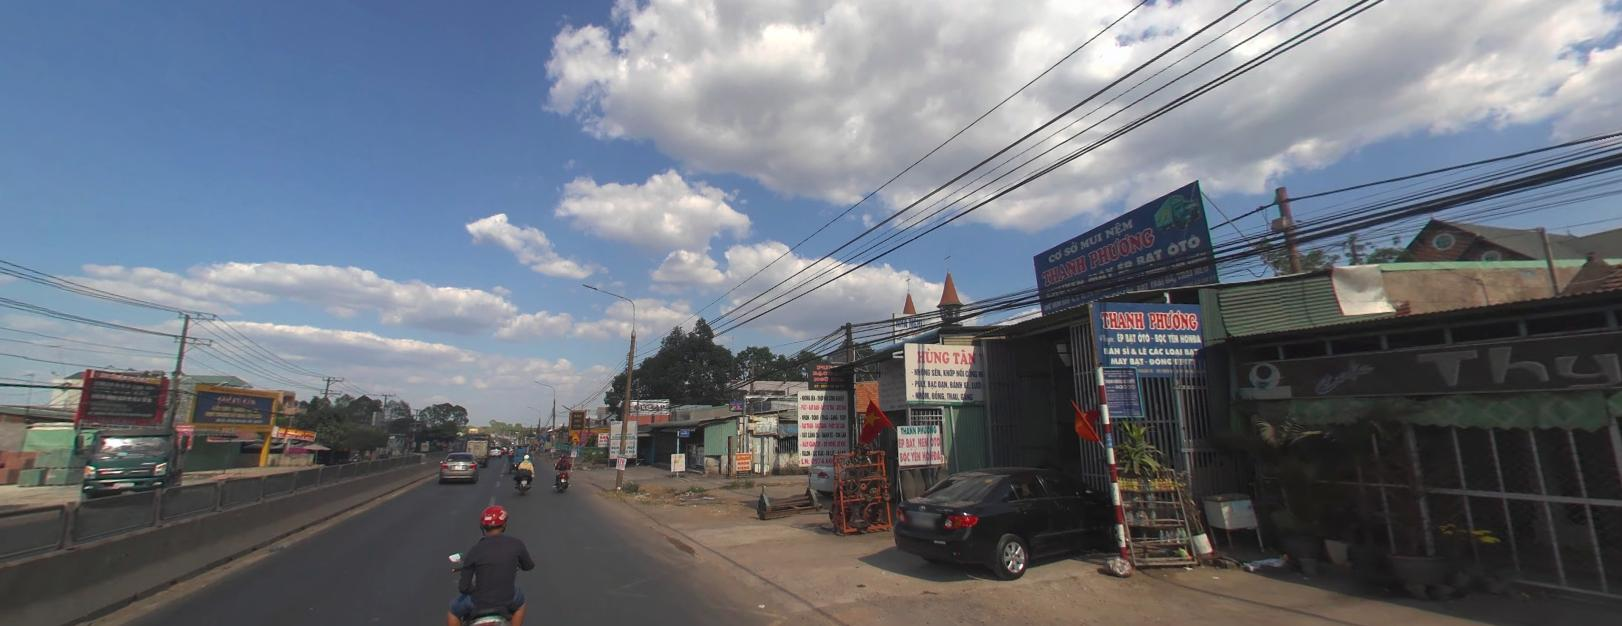Nguy hiem: (571, 431, 580, 439)
